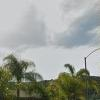Tree: (12, 42, 90, 100)
